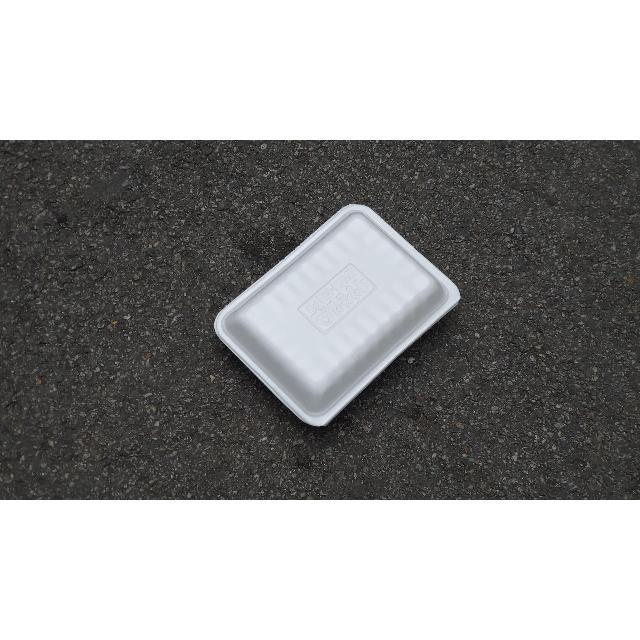Recipiente plastico: (215, 205, 460, 426)
